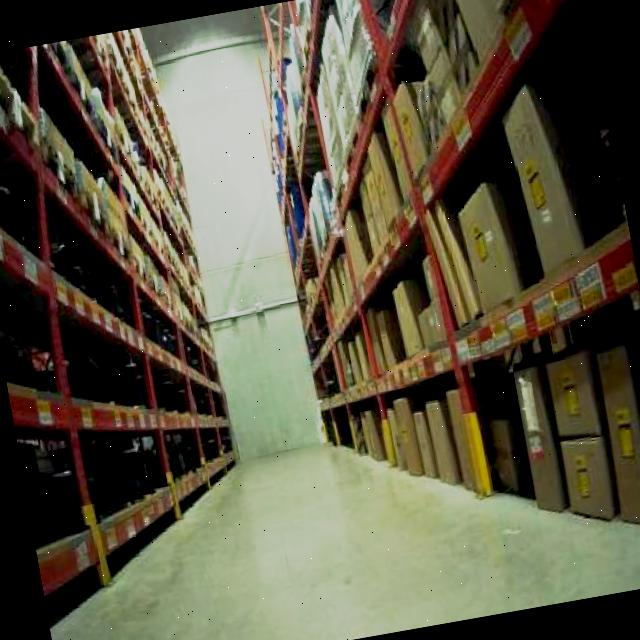ground: (25, 382, 640, 640)
pallet: (240, 0, 640, 630), (0, 23, 269, 640), (318, 323, 640, 590)
